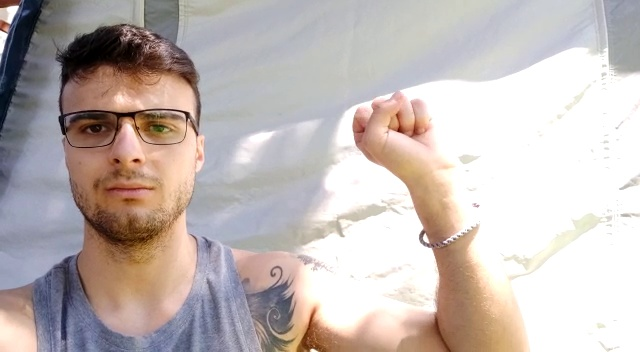Fist: (348, 86, 461, 190)
